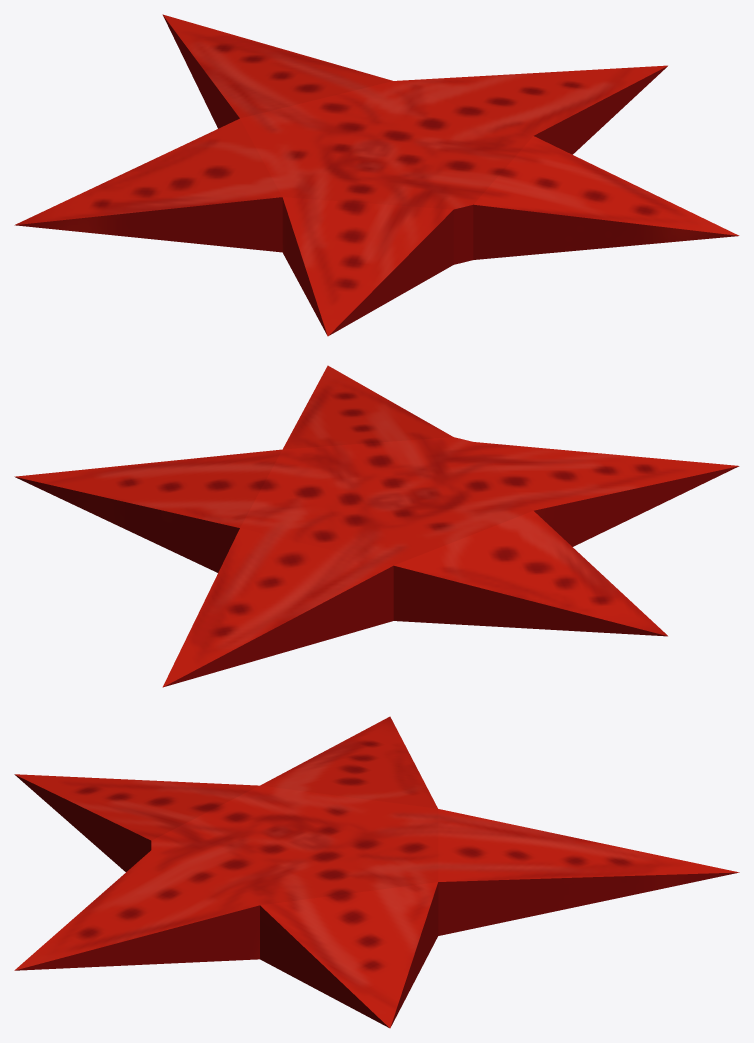
Rendered from starfish.FBX.
3 renders of one model, top to bottom at view 1: azimuth 30°, elevation 25°; view 2: azimuth 150°, elevation 25°; view 3: azimuth 270°, elevation 25°, orthographic. The views are drawn at different scales.
Parts seen in each view (by area): view 1: Box001; view 2: Box001; view 3: Box001.
Boxes of the visible parts, x1,y1,x2,y2 form: Box001: (14, 14, 739, 336); Box001: (14, 365, 739, 687); Box001: (14, 716, 739, 1028).
Bounding box in the file's own units: 10.63 × 10.45 × 0.8586.
